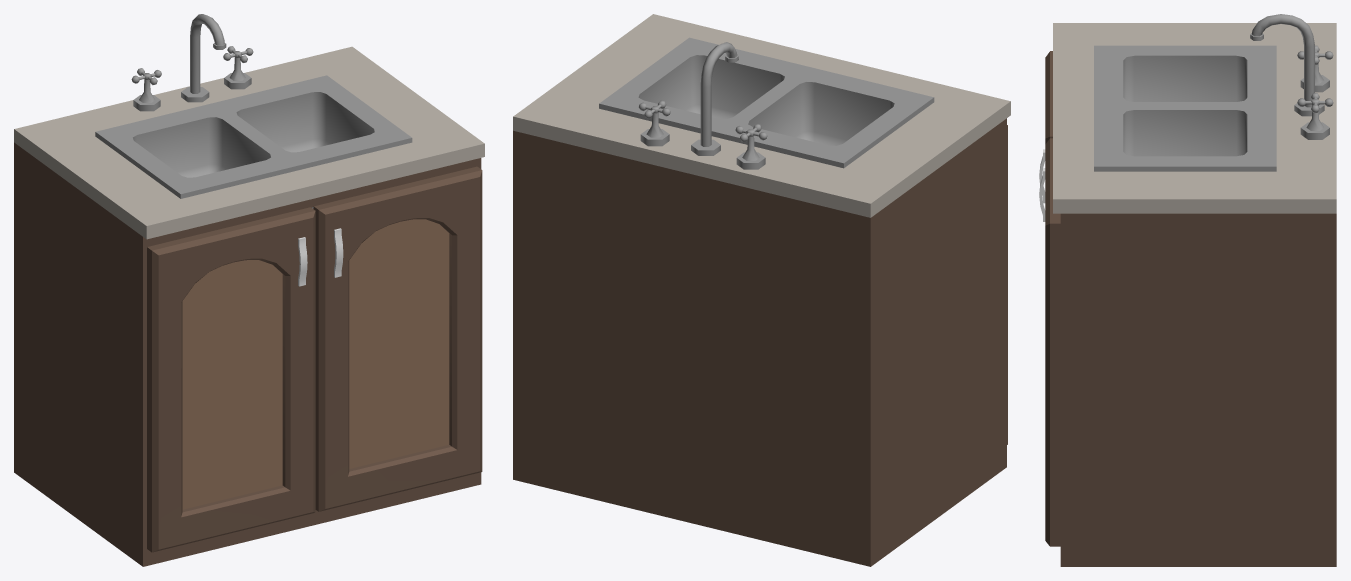
3 renders of one model, left to right at view 1: azimuth 30°, elevation 25°; view 2: azimuth 150°, elevation 25°; view 3: azimuth 270°, elevation 25°, orthographic. The views are drawn at different scales.
Visible parts, largest first — view 1: Counter_02_SinkRec, polySurface11, polySurface9, polySurface6, Faucet_08Shape, polySurface10; view 2: Counter_02_SinkRec, polySurface6, Faucet_08Shape; view 3: Counter_02_SinkRec, polySurface6, polySurface9, Faucet_08Shape, polySurface11.
Part boxes in pixels (x1,y1,x2,y2): Counter_02_SinkRec: [14, 46, 484, 566]; polySurface11: [147, 207, 315, 552]; polySurface9: [313, 166, 482, 511]; polySurface6: [95, 75, 412, 208]; Faucet_08Shape: [131, 14, 253, 111]; polySurface10: [298, 228, 343, 286]; Counter_02_SinkRec: [513, 14, 1010, 566]; polySurface6: [599, 37, 934, 168]; Faucet_08Shape: [638, 42, 767, 169]; Counter_02_SinkRec: [1053, 23, 1336, 566]; polySurface6: [1094, 45, 1276, 171]; polySurface9: [1045, 138, 1060, 546]; Faucet_08Shape: [1250, 14, 1333, 139]; polySurface11: [1045, 51, 1052, 144].
Bounding box in the file's own units: 100 × 123 × 71.13.
